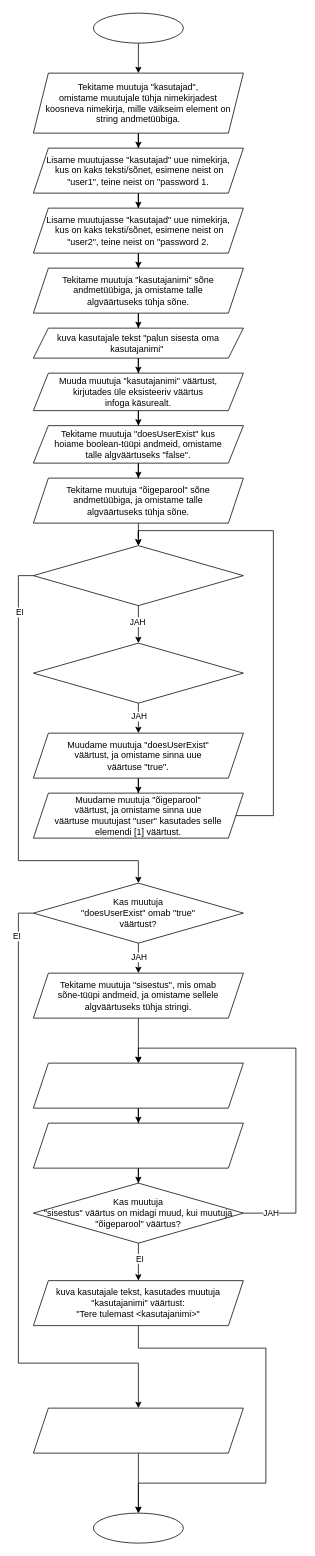
This 315x1556 diagram has some shape labels left out. Here are the shapes that lost their labels. From the top down, the centre of each, then its label:
[138,27]: Algus
[138,575]: Kas loendis "kasutajad" on veel elemente, ajutise muutuja nimega "user", alles?
[138,672]: Kas "user" muutuja element [0] on täpselt sama kui muutuja "kasutajanimi"?
[138,1085]: kuva kasutajale tekst: "palun sisesta oma parool"
[138,1145]: muuda muutuja "sisestus" väärtust, omistades sellele käsurea pealt uus väärtus.
[138,1430]: kuva kasutajale tekst: "kasutaja ei eksisteeri"
[138,1527]: Lõpp
